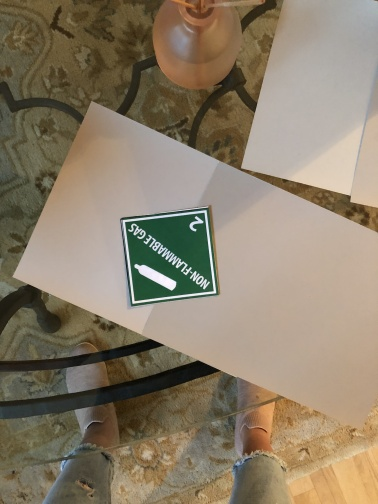NonFlammableGas: (120, 206, 220, 307)
